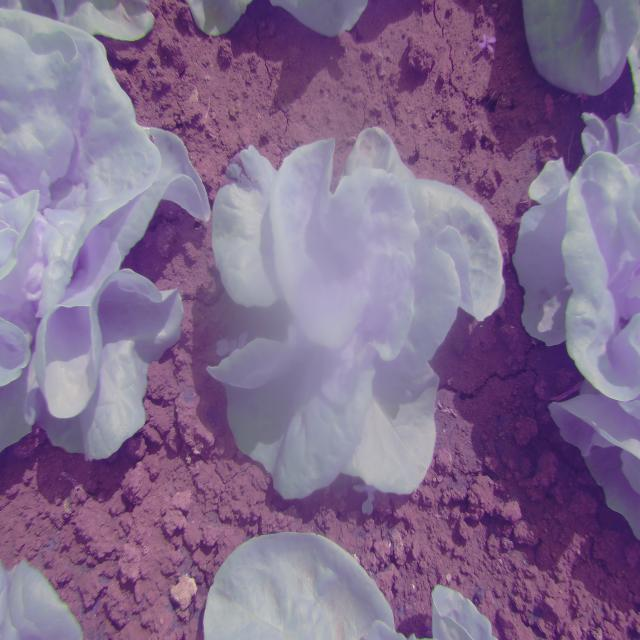vege: (209, 132, 510, 506)
